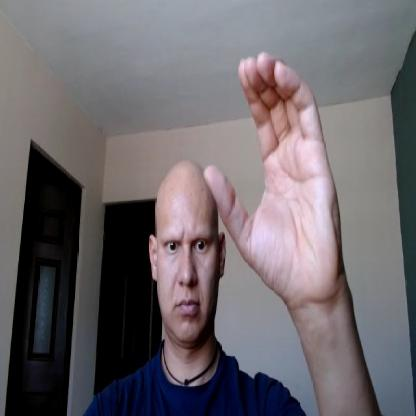C: (204, 53, 340, 302)
